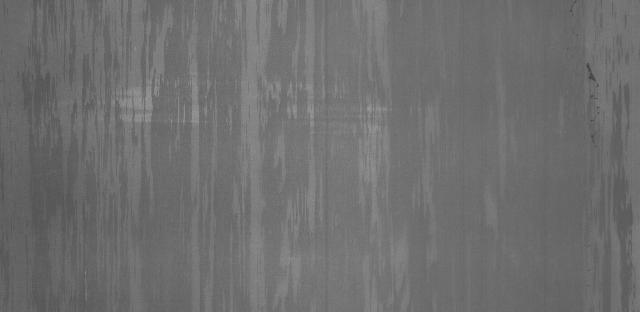inclusion: (586, 55, 605, 145)
water_spot: (30, 1, 293, 302), (313, 12, 463, 263), (599, 6, 639, 312)
